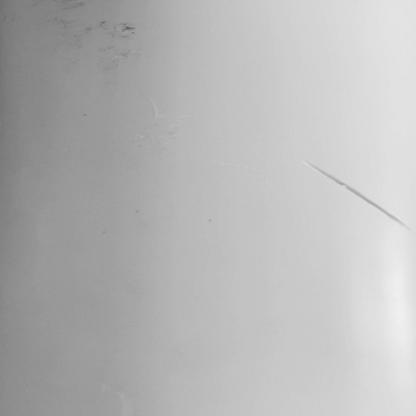sunshang: (307, 160, 416, 234)
